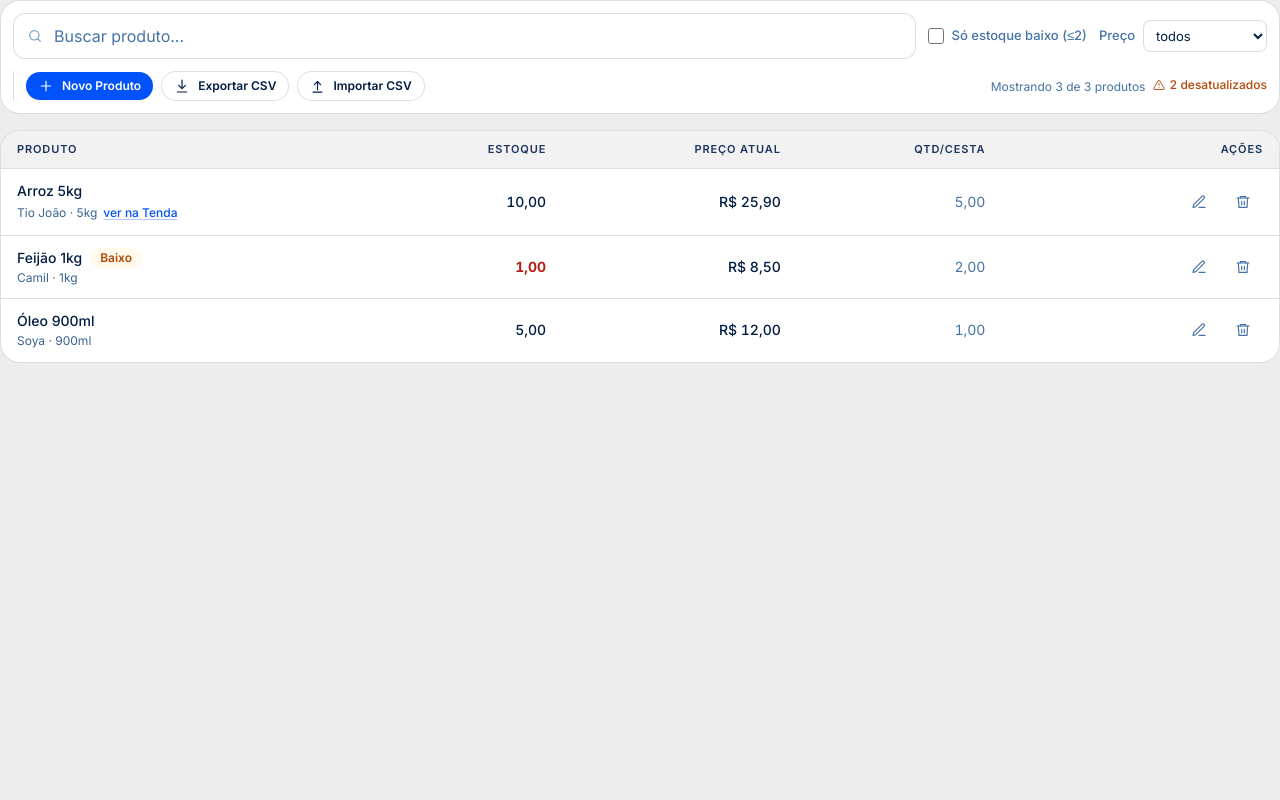
Test: EstoqueClient › bloqueia salvar edição sem nome e mostra erro inline
The width and height of the screenshot is (1280, 800).
Click the button with test id "editar-produto-1": (1199, 202) [1179,188,1219,216]
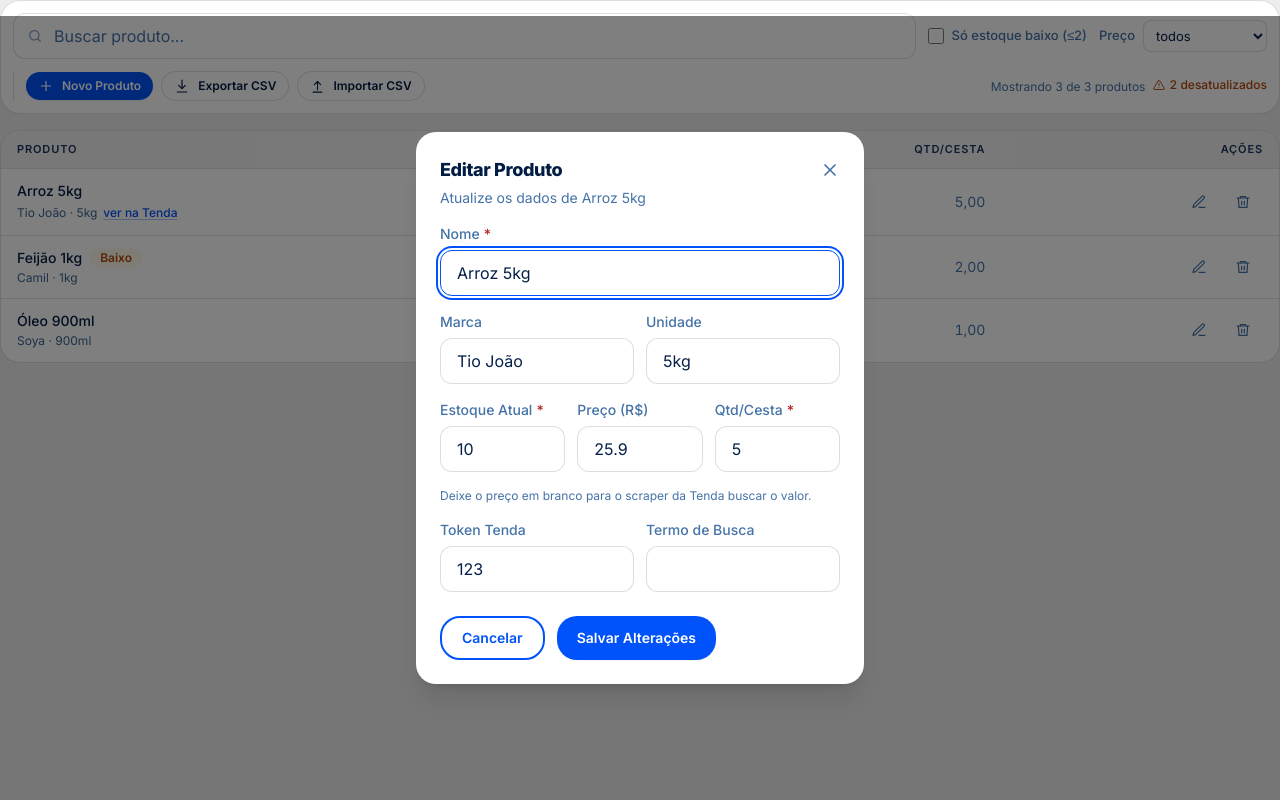
Clear the field labelled "Nome*": (640, 273) [440,250,840,296]
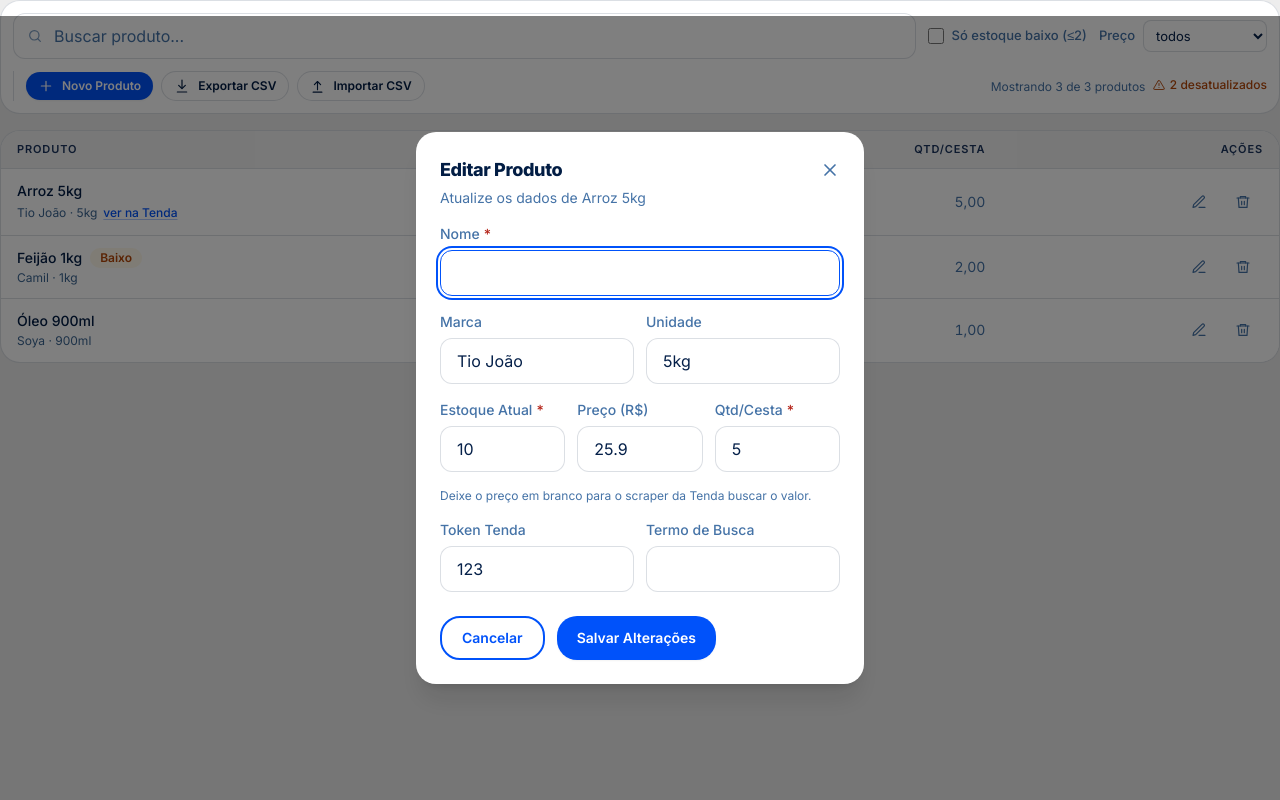
Submit the form with test id "form-editar-produto", box [440,224,840,660]
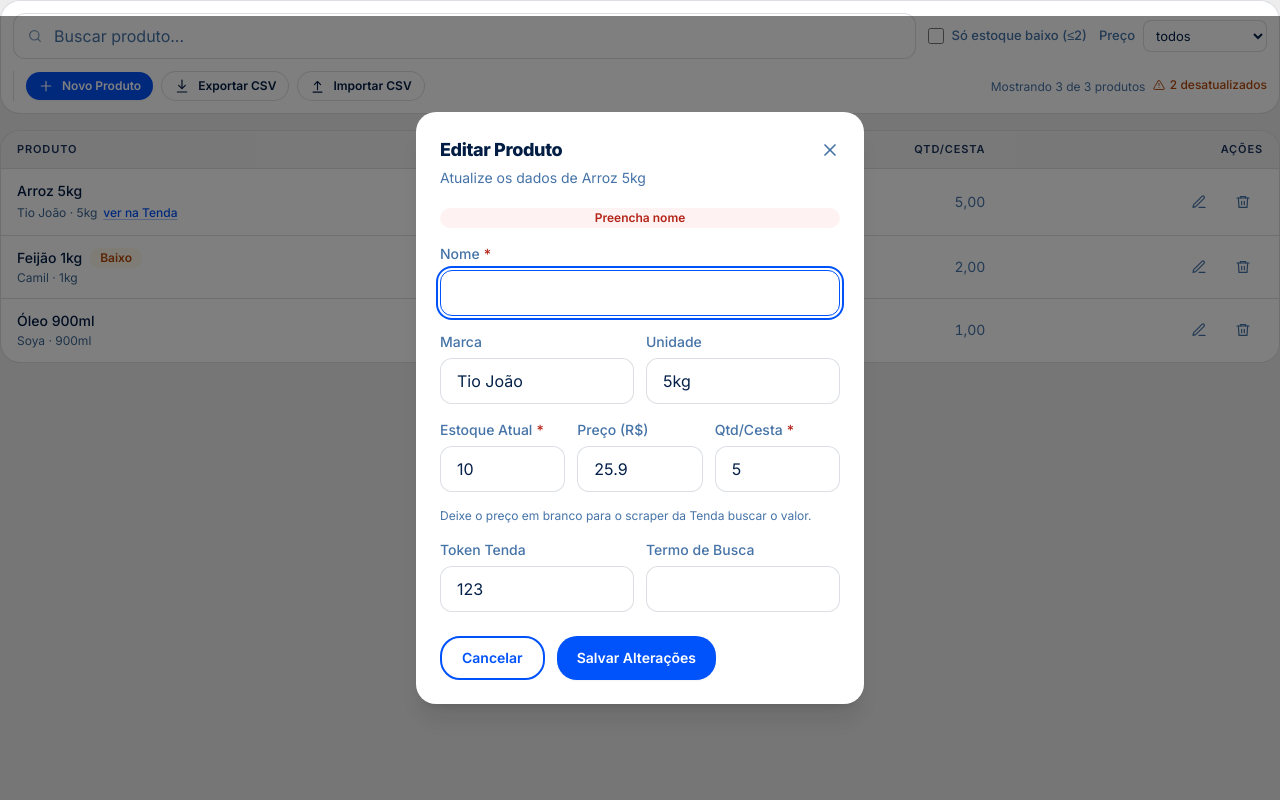
Expected: the form with test id "form-editar-produto" is shown, [440,204,840,680]
Expected: the message reads "Preencha nome", [595,210,685,225]
